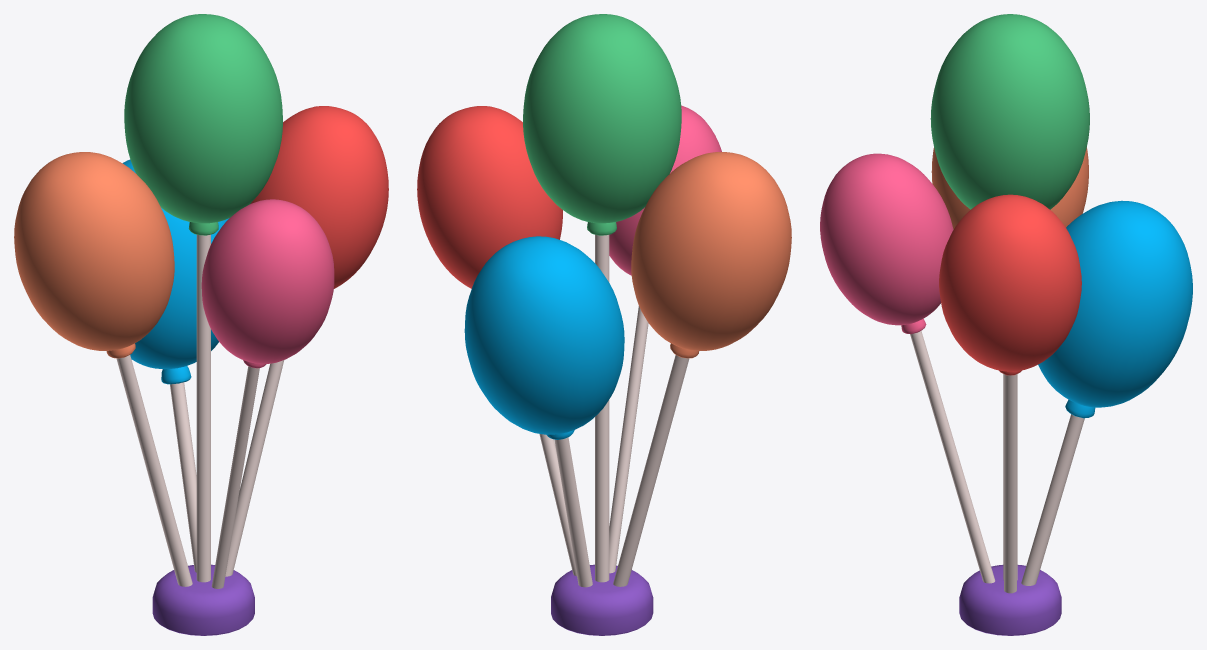
File: Public_14_Air_Balloons_1.glb
The picture shows the model from 3 angles, left to right: view 1: azimuth 30°, elevation 25°; view 2: azimuth 150°, elevation 25°; view 3: azimuth 270°, elevation 25°; orthographic projection.
Visible parts, largest first — view 1: Public_14_Air_Balloons_1; view 2: Public_14_Air_Balloons_1; view 3: Public_14_Air_Balloons_1.
Boxes of the visible parts, x1=… form: Public_14_Air_Balloons_1: x1=14, y1=14, x2=388, y2=635; Public_14_Air_Balloons_1: x1=417, y1=14, x2=791, y2=635; Public_14_Air_Balloons_1: x1=820, y1=14, x2=1192, y2=635.
Bounding box in the file's own units: 1.7 × 2.71 × 1.54.
1 material, 1 textured.
